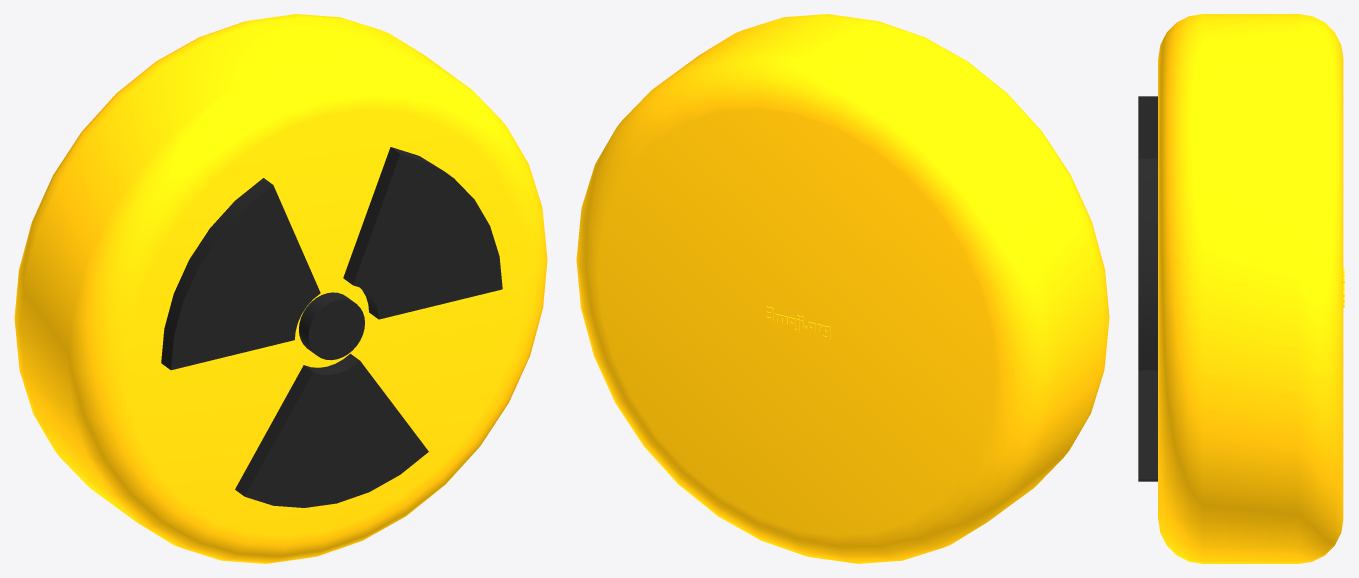
The model's file is radioactive.gltf.
3 renders of one model, left to right at view 1: azimuth 30°, elevation 25°; view 2: azimuth 150°, elevation 25°; view 3: azimuth 270°, elevation 25°, orthographic.
Parts seen in each view (by area): view 1: Circle.2628; view 2: Circle.2628; view 3: Circle.2628.
Boxes of the visible parts, x1,y1,x2,y2 form: Circle.2628: [14, 14, 547, 563]; Circle.2628: [576, 14, 1109, 563]; Circle.2628: [1138, 14, 1344, 563].
Size of the model in its own units: 1.96 by 1.96 by 0.7337.
Materials: 1 (1 with a texture image).
